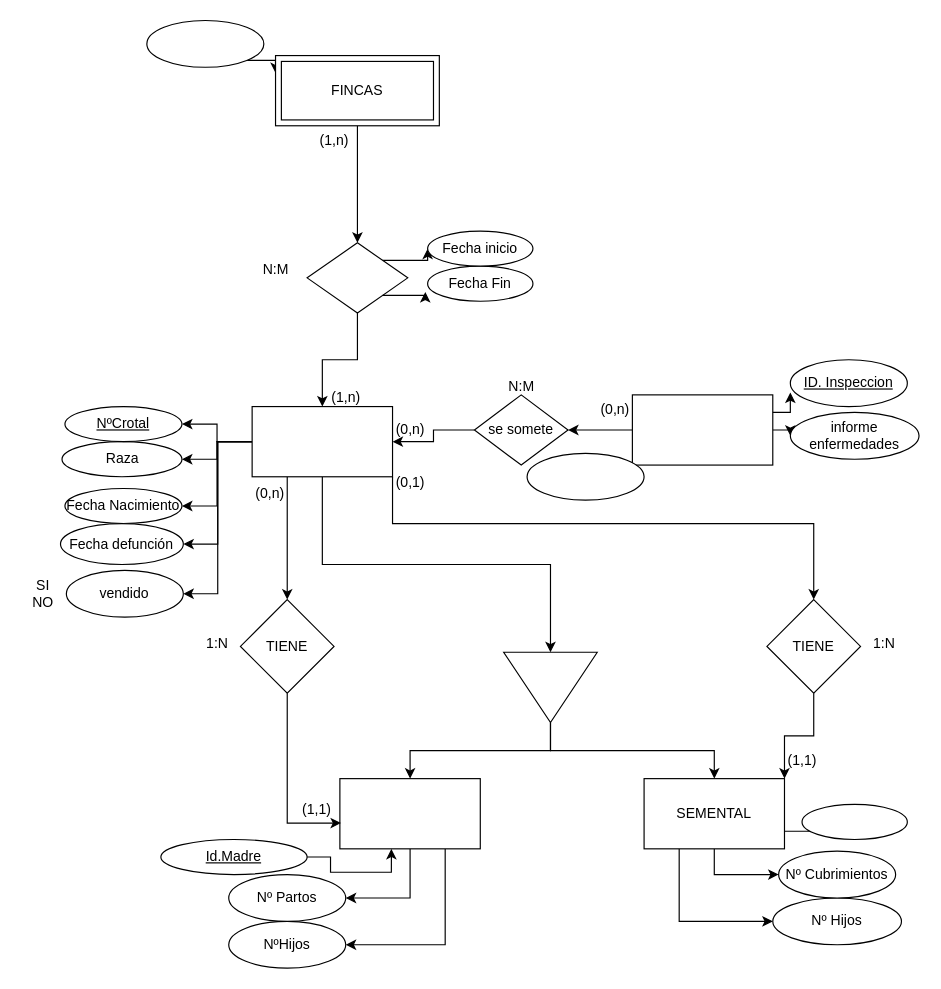
The diagram is 941 pixels wide and 989 high, and some of its shapes have lost their labels. Here are the shapes that lost their labels. From the top down, the centre of each, then its label:
[205,43]: id fincas
[357,277]: engordan
[322,441]: ANIMAL
[702,429]: INSPECCION VETERINARIA
[585,476]: Fecha
[550,686]: IS A
[409,813]: MADRE
[854,821]: Id.Semental
